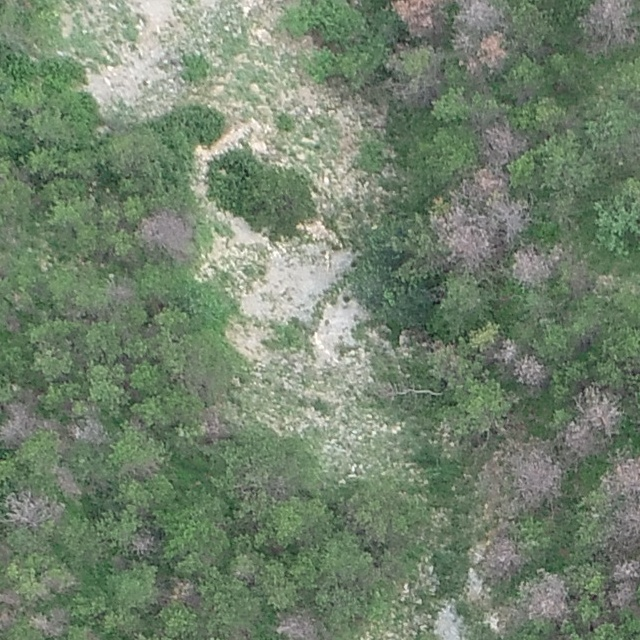unhealthy: (380, 40, 446, 107), (431, 206, 489, 269), (506, 443, 561, 508), (569, 386, 622, 450), (578, 0, 633, 53), (138, 205, 193, 258), (475, 531, 524, 579), (525, 571, 573, 620), (3, 488, 61, 527), (479, 120, 529, 162), (390, 0, 446, 36), (0, 399, 37, 448), (489, 197, 531, 238), (510, 243, 550, 285), (600, 455, 640, 497), (462, 166, 509, 198), (274, 608, 321, 640), (455, 0, 504, 30), (609, 501, 638, 550), (513, 352, 550, 388), (196, 406, 231, 441), (70, 414, 109, 445), (30, 607, 70, 637), (454, 31, 480, 77), (479, 31, 508, 72), (556, 421, 591, 453), (53, 463, 83, 497), (43, 568, 79, 595), (166, 577, 198, 606), (606, 579, 638, 608), (123, 457, 160, 481), (492, 335, 520, 364), (129, 528, 158, 556), (107, 279, 137, 304), (609, 556, 639, 580), (0, 587, 20, 612), (0, 606, 16, 633), (79, 628, 104, 640)
